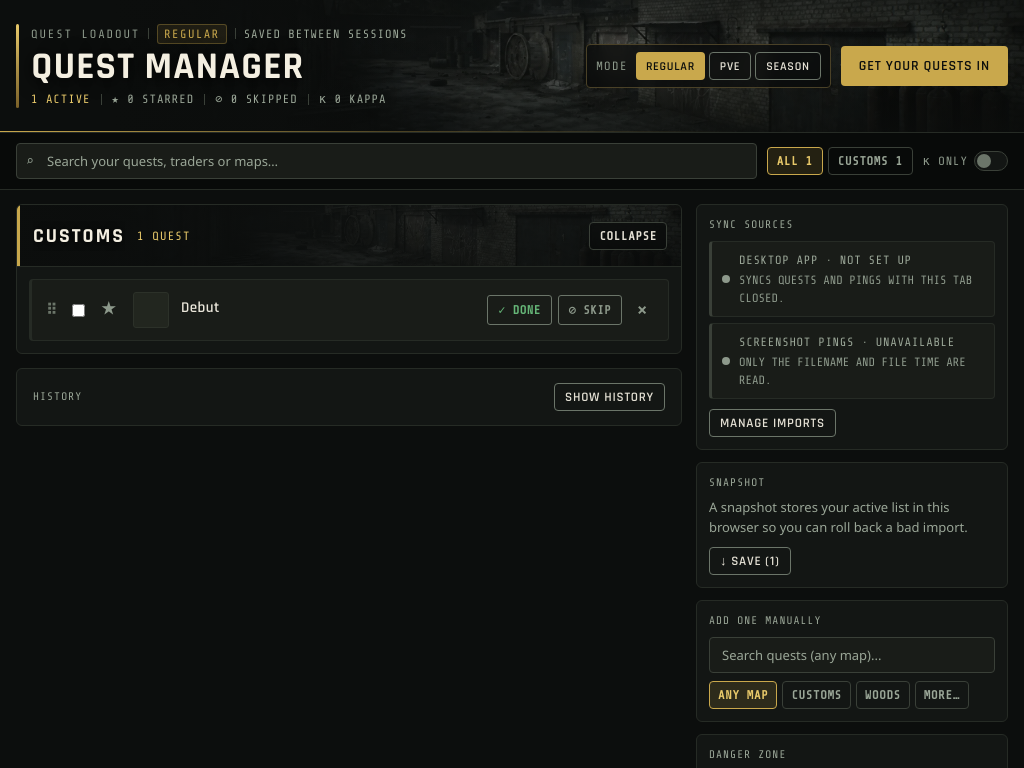
Test case: MyQuests history › loads terminal rows on first expand and reactivates one
Click the button "SHOW HISTORY". click: [610, 397]
box: 554,383 -> 665,411
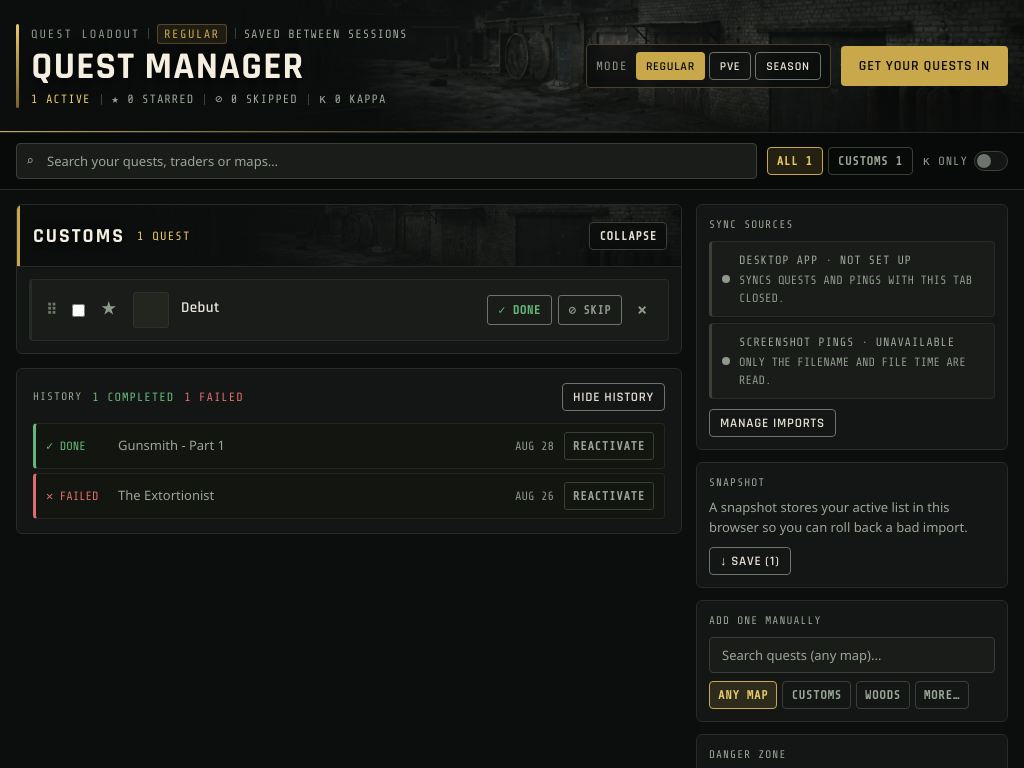
Check: the text "Gunsmith - Part 1" is shown, box 118,436 -> 225,454
Check: the text "1 COMPLETED" is shown, box 92,388 -> 174,406
Check: the text "1 FAILED" is shown, box 184,388 -> 244,406
Click the button "REACTIVATE" next to "AUG 26". click: [609, 496]
box: 564,482 -> 654,510
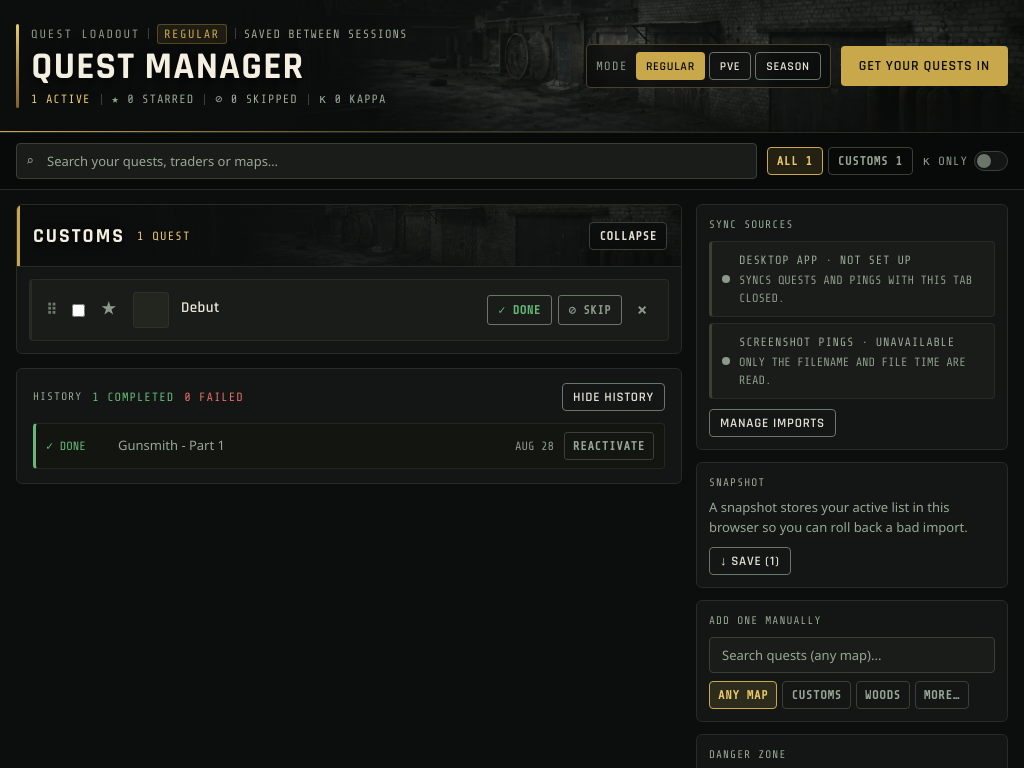
Check: the text "The Extortionist" is gone
